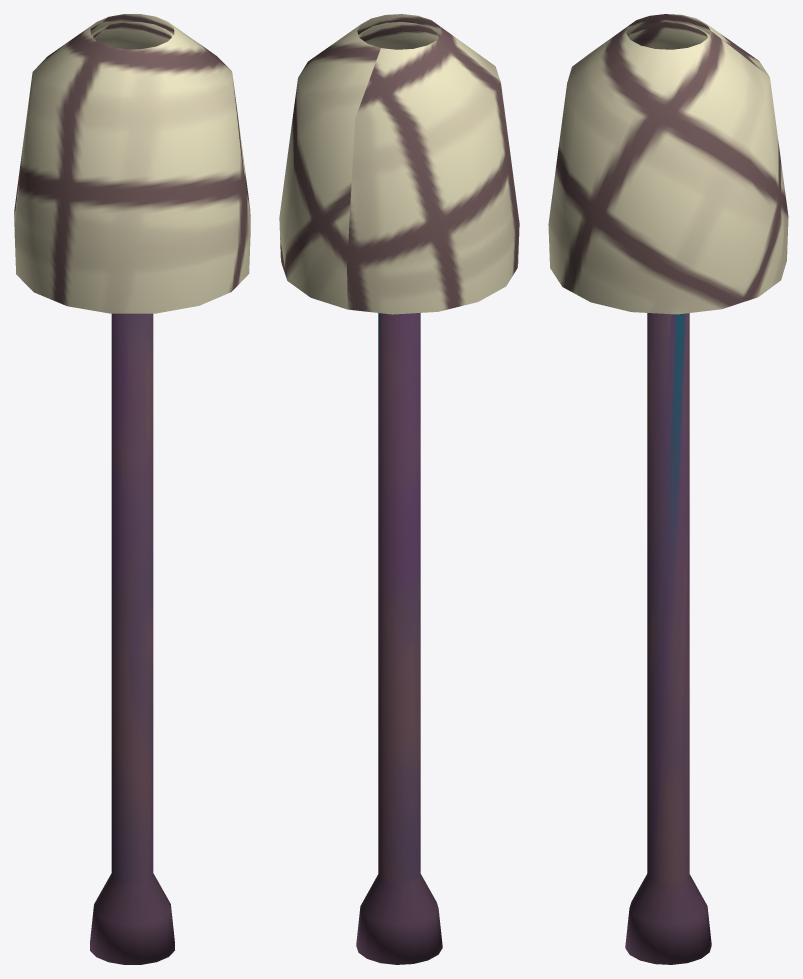
The model's file is Lampada.fbx.
The picture shows the model from 3 angles, left to right: view 1: azimuth 30°, elevation 25°; view 2: azimuth 150°, elevation 25°; view 3: azimuth 270°, elevation 25°; orthographic projection.
Visible parts, largest first — view 1: Lampada; view 2: Lampada; view 3: Lampada.
Boxes of the visible parts, left/top/right/bottom form: Lampada: left=14, top=14, right=250, bottom=964; Lampada: left=279, top=14, right=519, bottom=964; Lampada: left=548, top=14, right=788, bottom=964.
Bounding box in the file's own units: 79.66 × 79.66 × 335.
